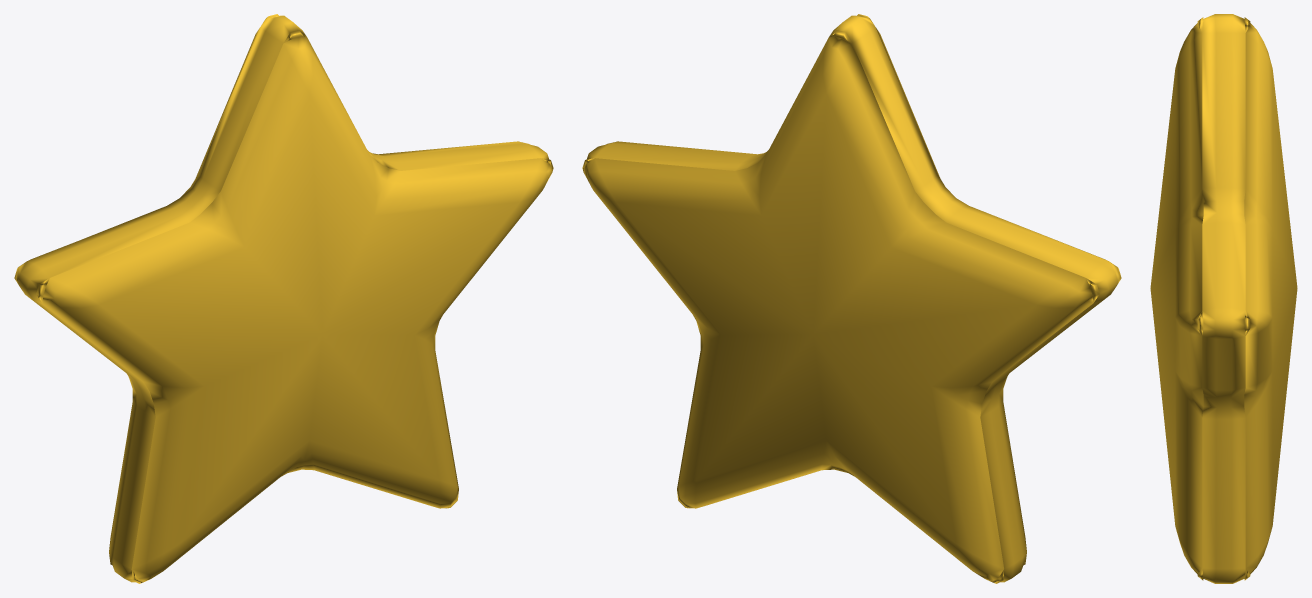
File: review-star.glb
The picture shows the model from 3 angles, left to right: view 1: azimuth 30°, elevation 25°; view 2: azimuth 150°, elevation 25°; view 3: azimuth 270°, elevation 25°; orthographic projection. The views are drawn at different scales.
Parts seen in each view (by area): view 1: Gummy star; view 2: Gummy star; view 3: Gummy star.
Boxes of the visible parts, <box> form: Gummy star: <box>14,14,553,583</box>; Gummy star: <box>582,14,1121,583</box>; Gummy star: <box>1150,14,1297,583</box>.
Bounding box in the file's own units: 1.72 × 1.63 × 0.44.
